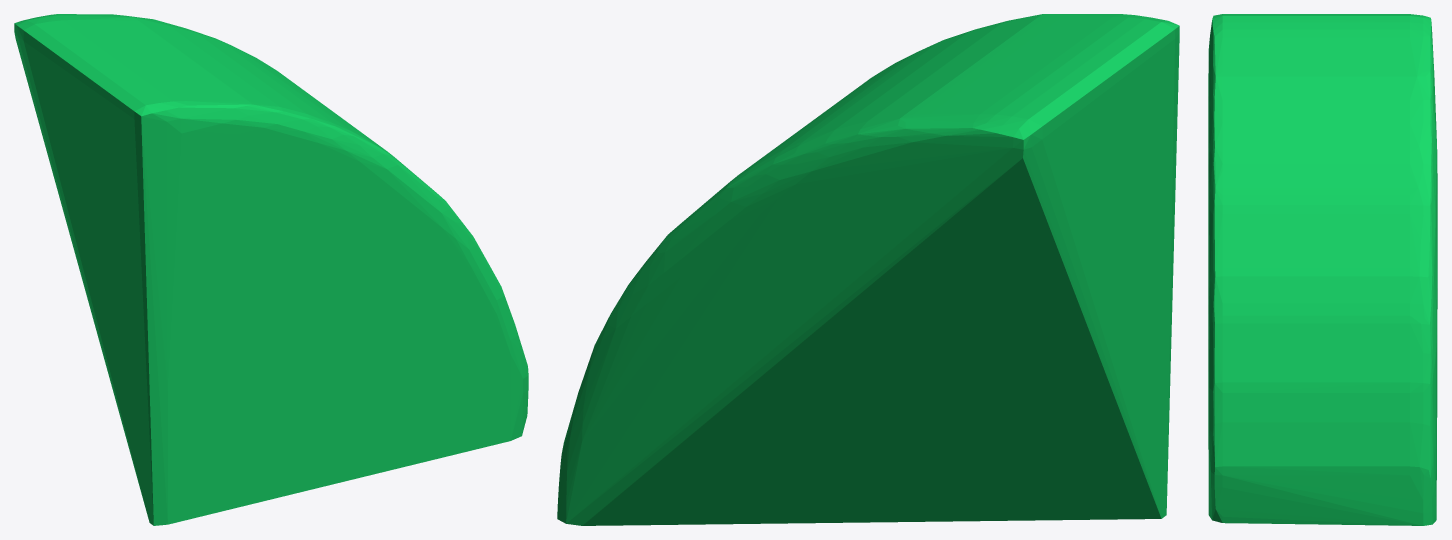
The model's file is right-hip-pitch-0_part_23.obj.
The picture shows the model from 3 angles, left to right: view 1: azimuth 30°, elevation 25°; view 2: azimuth 150°, elevation 25°; view 3: azimuth 270°, elevation 25°; orthographic projection. The views are drawn at different scales.
Bounding box in the file's own units: 0.0649 × 0.0655 × 0.0386.
